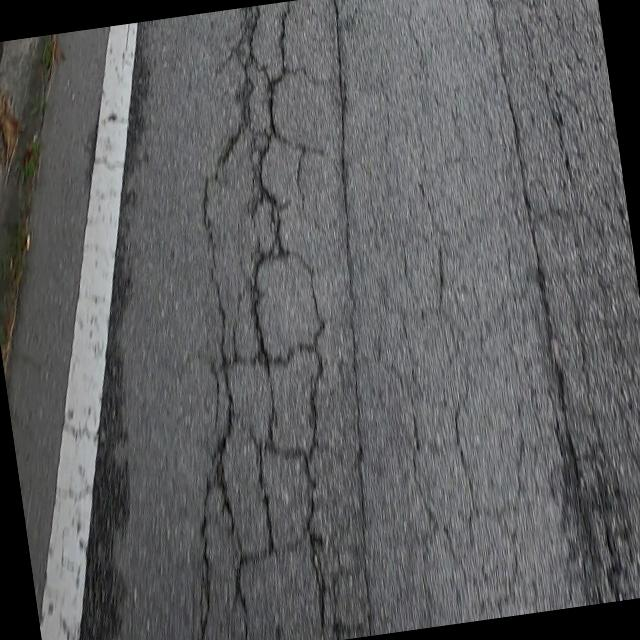Retak-Buaya: (197, 0, 373, 640), (493, 0, 640, 604)
